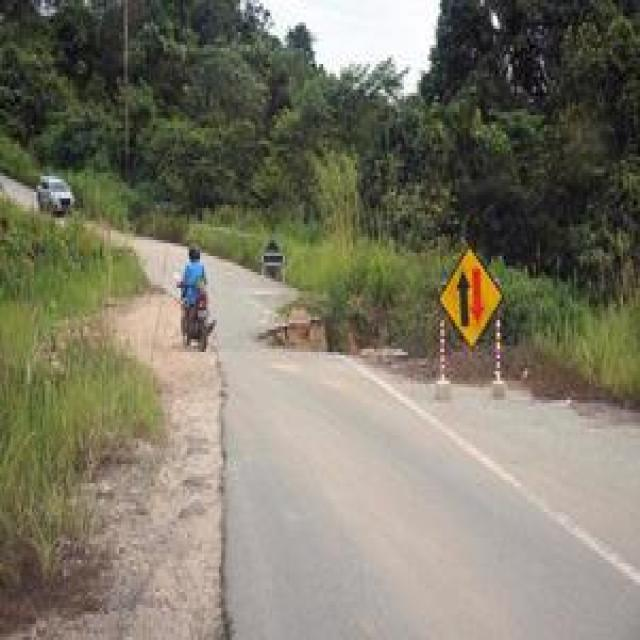road collapse: (236, 233, 640, 538)
